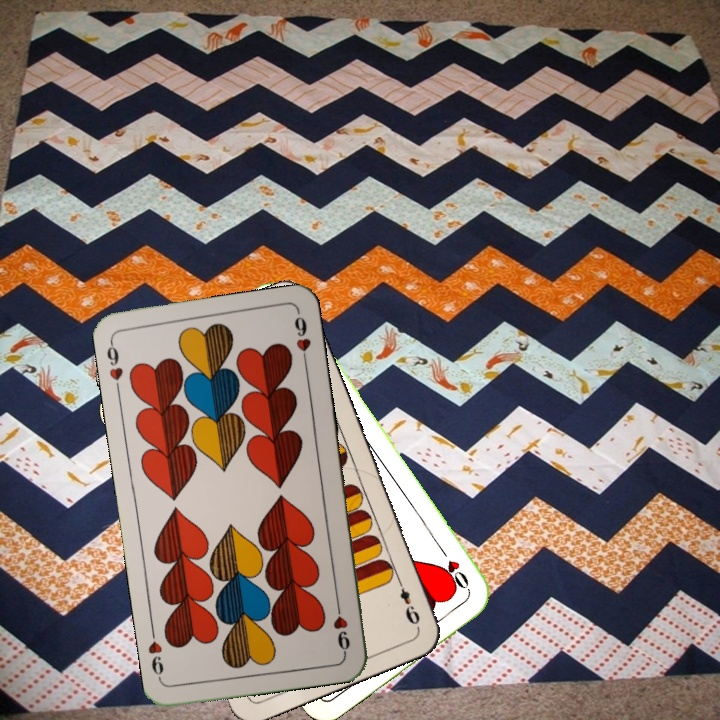E9: (393, 573, 423, 630)
H9: (329, 597, 353, 656), (102, 336, 126, 395)
HO: (434, 542, 473, 594)
